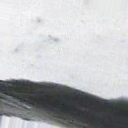crackTip: (1, 71, 127, 128)
